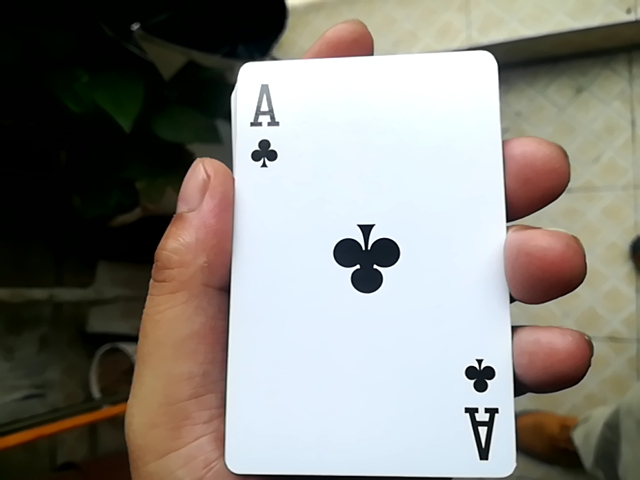mh a: (212, 43, 523, 480)
